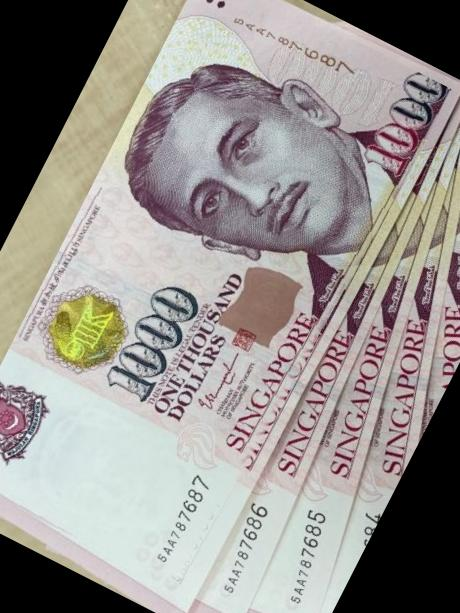1000SingaporeDollar: (0, 0, 455, 604)
